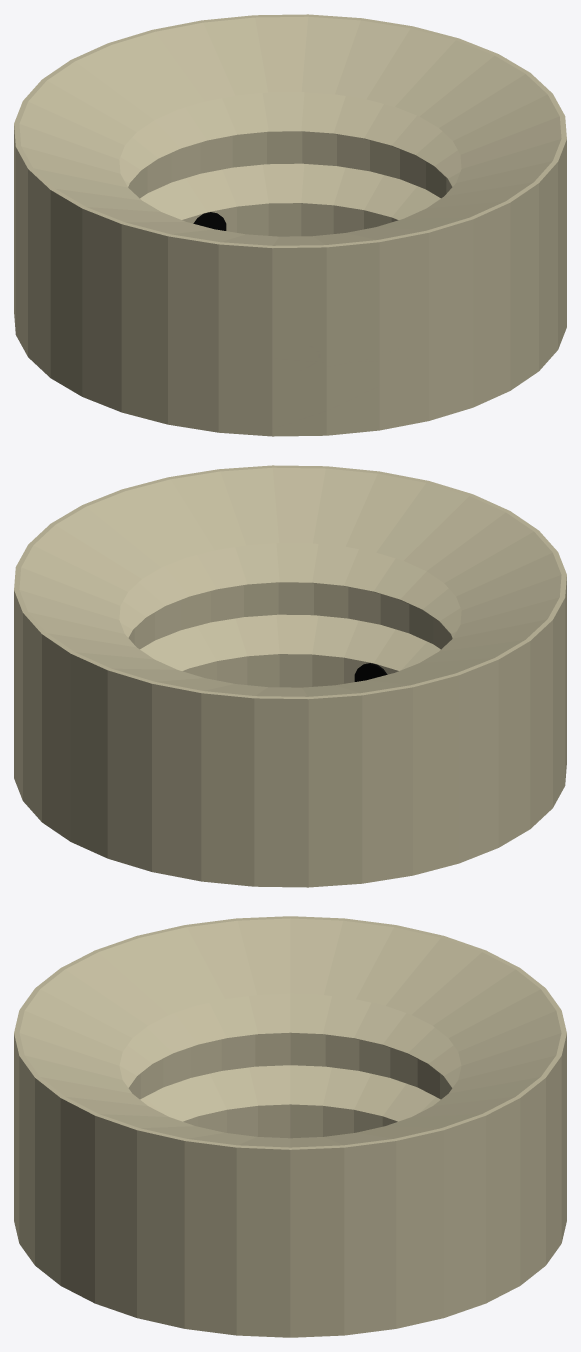
Rendered from Colosseum.obj.
The picture shows the model from 3 angles, top to bottom: view 1: azimuth 30°, elevation 25°; view 2: azimuth 150°, elevation 25°; view 3: azimuth 270°, elevation 25°; orthographic projection.
Visible parts, largest first — view 1: 円柱.002; view 2: 円柱.002; view 3: 円柱.002.
Part boxes in pixels (x1,y1,x2,y2): 円柱.002: (14, 14, 566, 436); 円柱.002: (14, 465, 566, 887); 円柱.002: (14, 916, 566, 1337).
Size of the model in its own units: 400 by 150 by 400.
3 materials, 3 textured.
